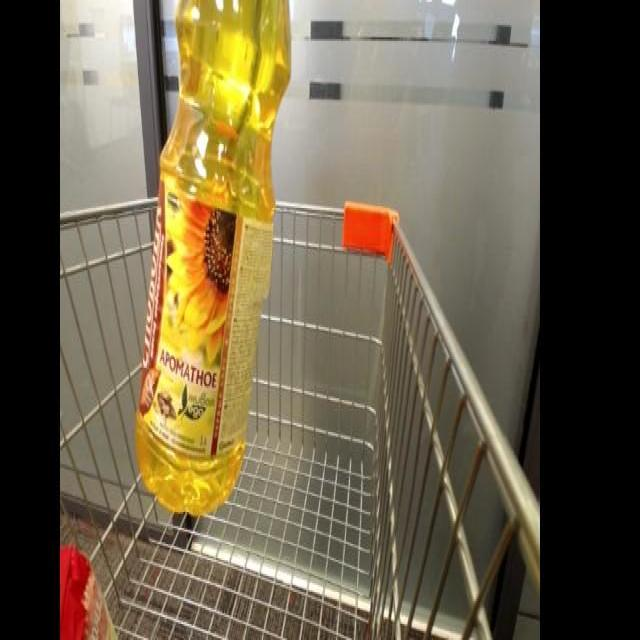Oil: (130, 1, 296, 523)
